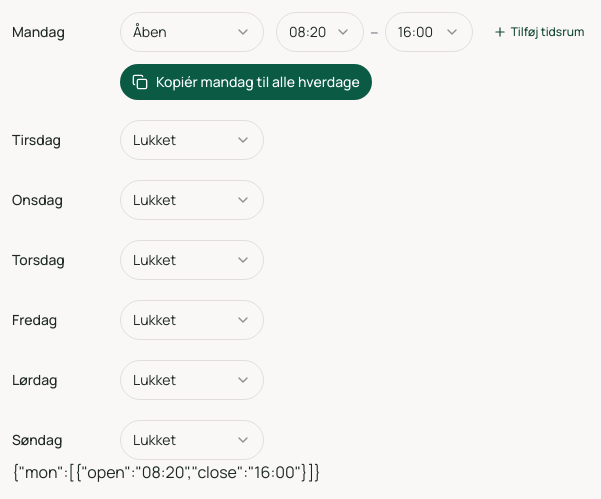
Test: OpeningHoursEditor — 24-hour clock › keeps an off-grid time from Google selectable
Click the dropdown named "Mandag åbner". click: (320,32)
box: top-left (276, 12), bottom-right (364, 52)
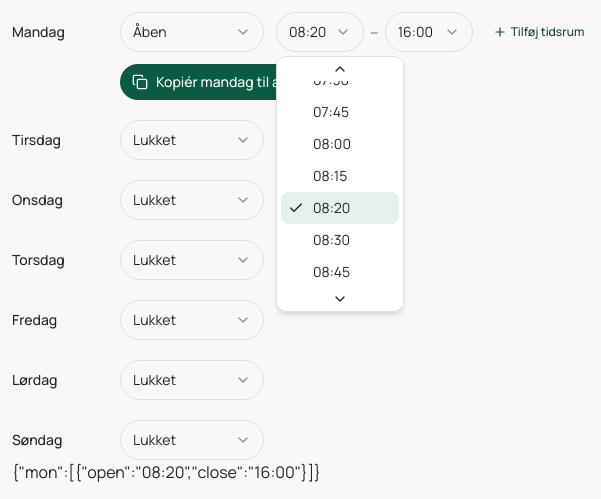
Check: the text "08:20" below "08:15" is shown, box top-left (313, 198), bottom-right (350, 217)
